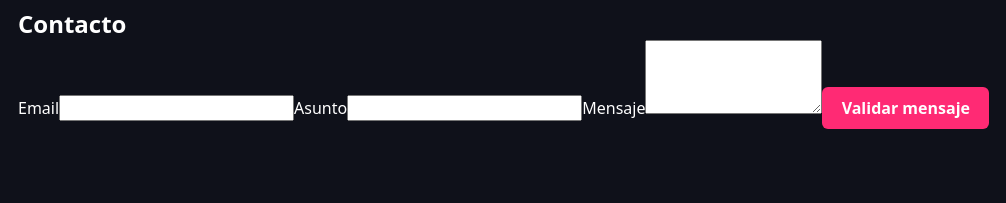
Test: Contacto › valida un mensaje correctamente
The width and height of the screenshot is (1006, 203).
Type "cliente@test.cl" into the field labelled "Email" at (177, 108), box [59,95,294,121]
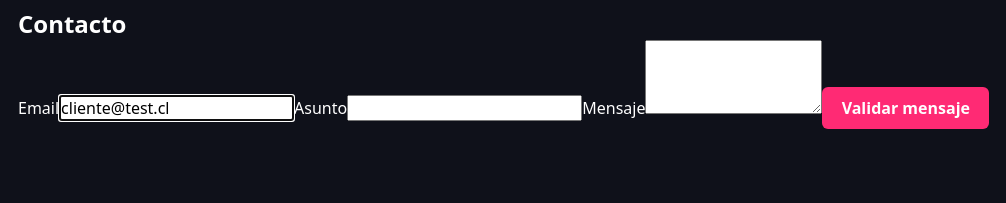
Type "Consulta" into the field labelled "Asunto" at (465, 108), box [347,95,582,121]
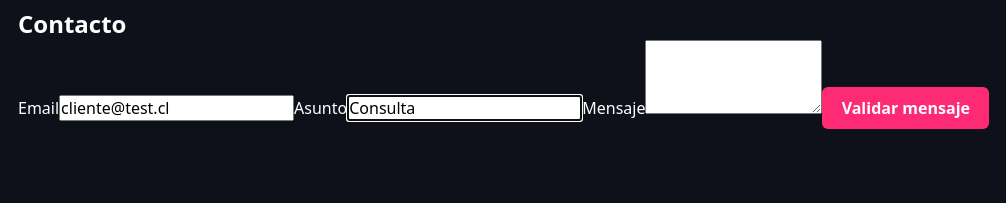
Type "Necesito ayuda con mi compra" into the text box labelled "Mensaje" at (734, 77), box [645,40,822,114]
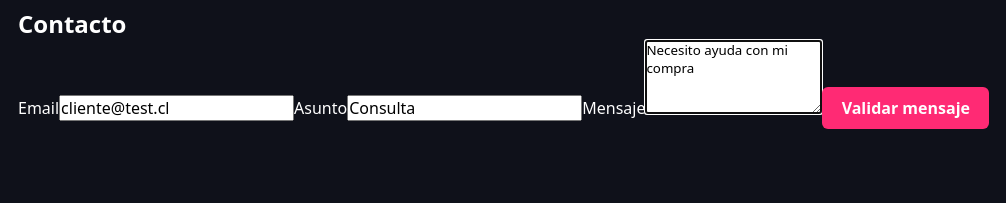
Click the button "Validar mensaje" at (906, 108), box [822,87,989,129]
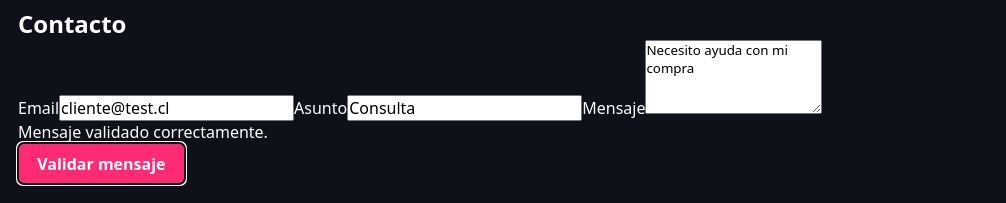
Now the text "Mensaje validado correctamente." is shown, box [18,121,268,143]
